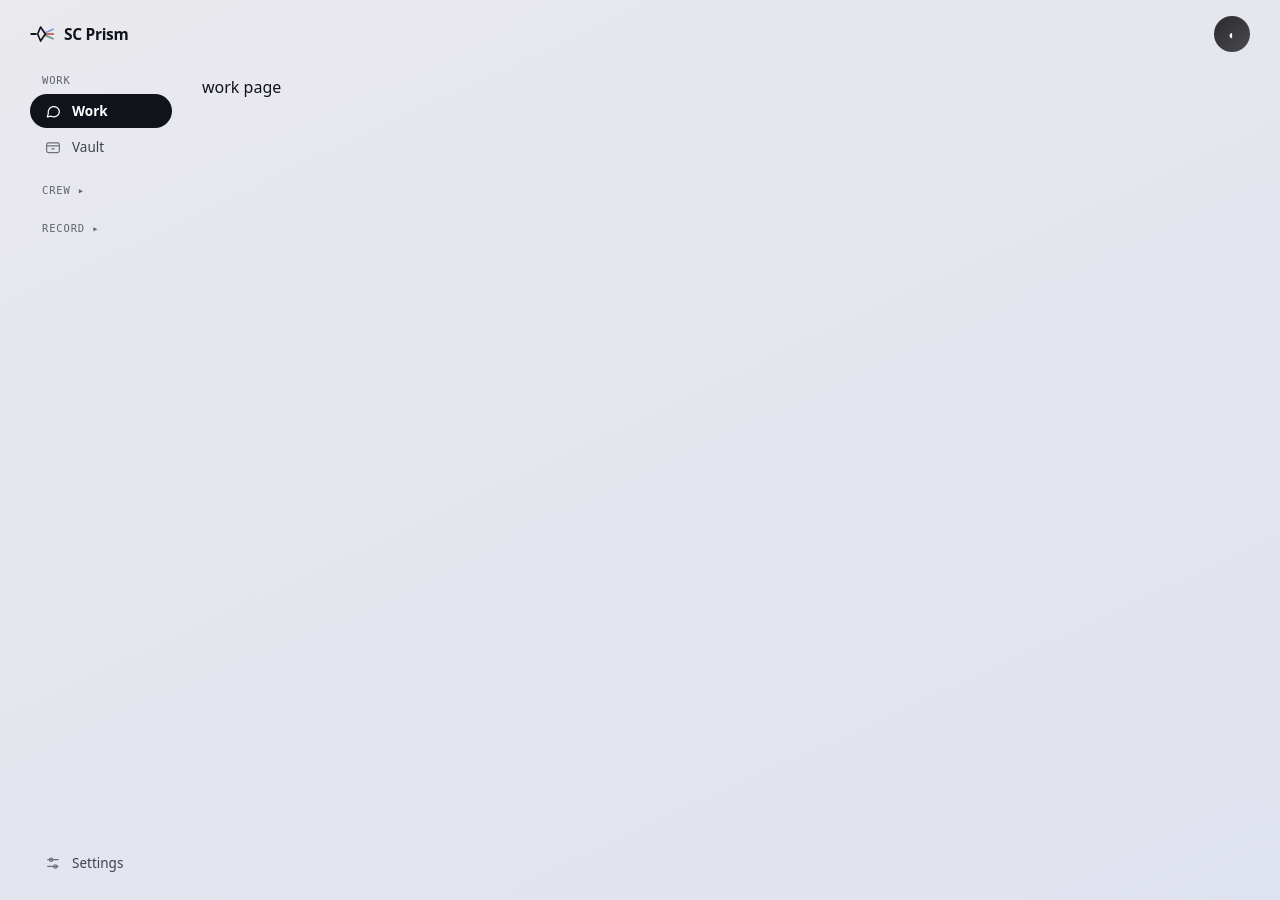
Test: the rail folds its quieter groups › clicking a heading opens the group and remembers it
Click the button "Crew ▸" at {"x": 101, "y": 193}, box [30,184,172,202]
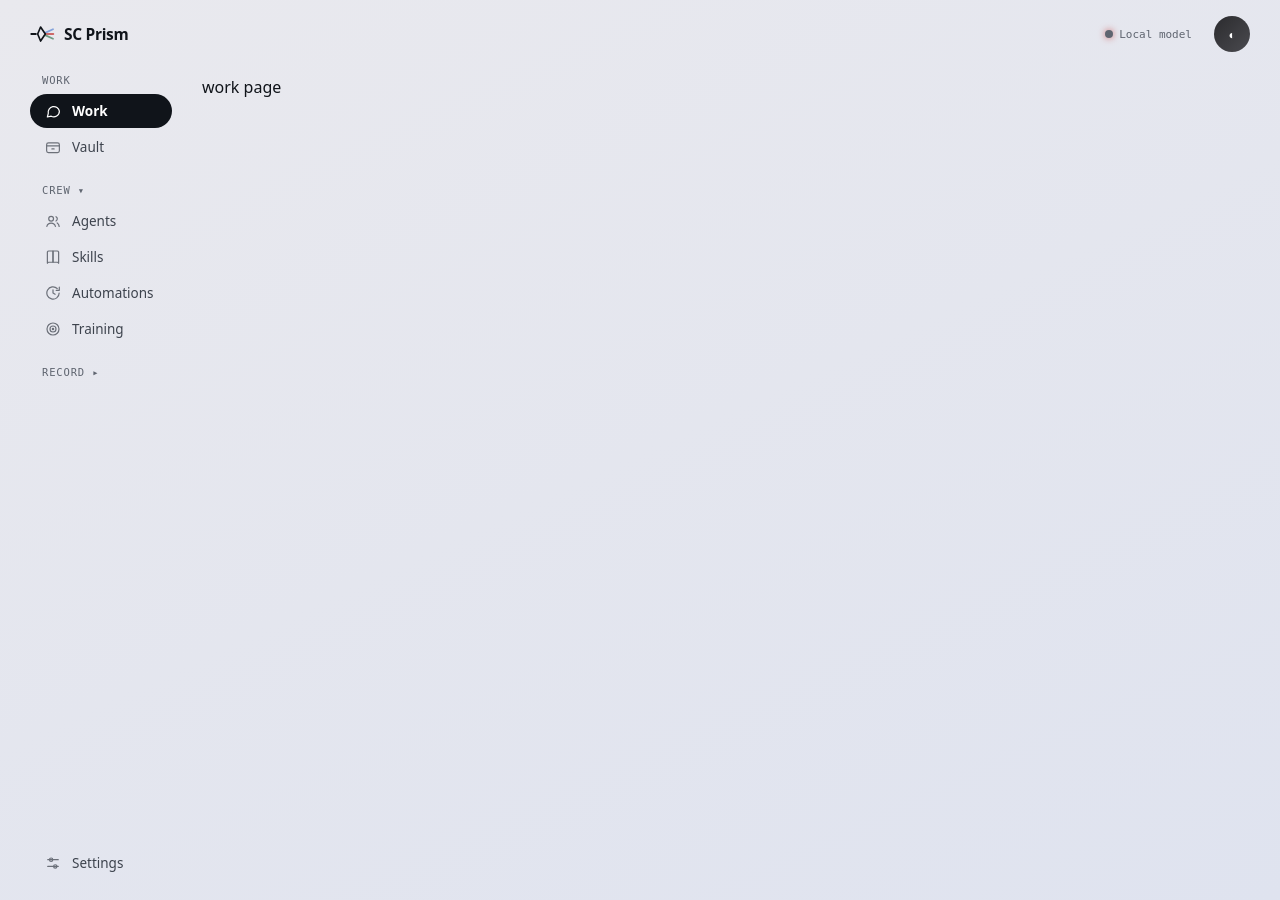
expect the link "Skills" is shown: met, box [44,248,104,266]
